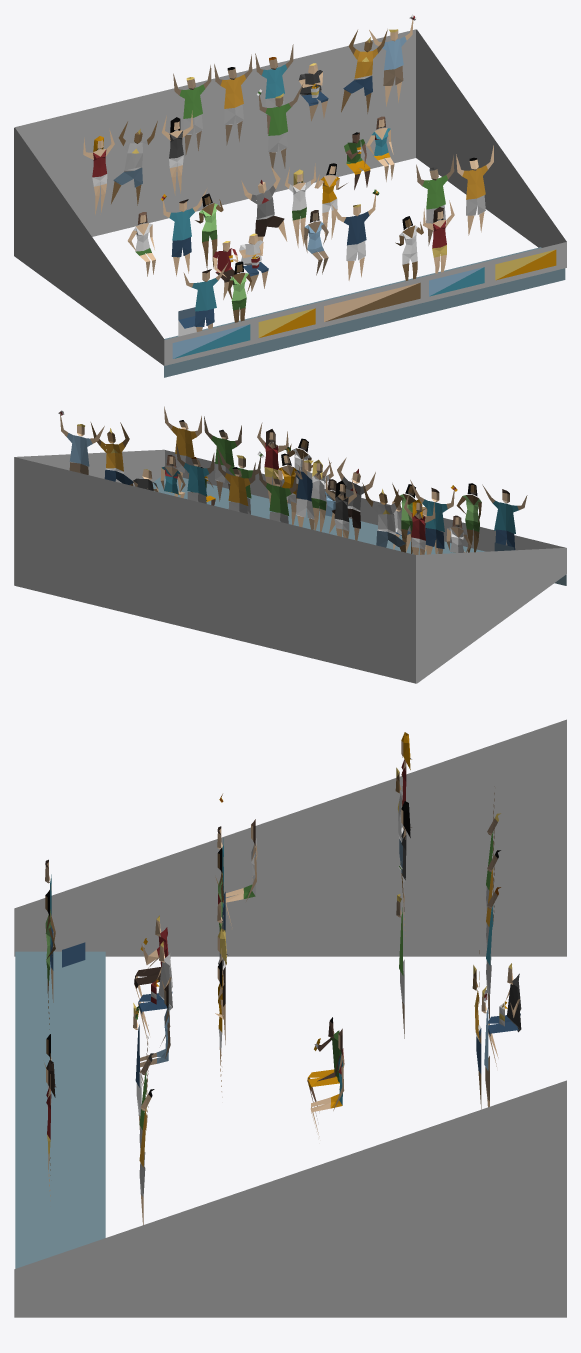
Rendered from publico_lowpoly.dae.
The picture shows the model from 3 angles, top to bottom: view 1: azimuth 30°, elevation 25°; view 2: azimuth 150°, elevation 25°; view 3: azimuth 270°, elevation 25°; orthographic projection. The views are drawn at different scales.
Parts seen in each view (by area): view 1: Plane_002, Plane_003, hombre_015, hombre_011, hombre_009, hombre_010, hombre_008, hombre_004, hombre_1, hombre_006, hombre_013, hombre_003 (+19 smaller); view 2: Plane_002, Plane_003, hombre_1, hombre_004, Plane, hombre_009, hombre_006, hombre_003, mujer_000, hombre_015, hombre_014, hombre_008 (+13 smaller); view 3: Plane_002, Plane_003, hombre_007, hombre_2, hombre_005, hombre_000.
Part boxes in pixels (box(x1,y1,x2,y2)): Plane_002: box(14, 29, 566, 365); Plane_003: box(164, 247, 565, 377); hombre_015: box(456, 145, 493, 235); hombre_011: box(214, 54, 252, 145); hombre_009: box(341, 29, 387, 113); hombre_010: box(257, 83, 303, 168); hombre_008: box(331, 189, 379, 280); hombre_004: box(111, 121, 157, 205); hombre_1: box(161, 188, 207, 276); hombre_006: box(369, 14, 416, 106); hombre_013: box(173, 65, 211, 155); hombre_003: box(241, 166, 287, 252); Plane_002: box(14, 449, 566, 683); Plane_003: box(152, 474, 566, 585); hombre_1: box(410, 480, 457, 554); hombre_004: box(362, 483, 405, 552); Plane: box(482, 484, 527, 550); hombre_009: box(90, 422, 133, 485); hombre_006: box(58, 410, 104, 474); hombre_003: box(329, 457, 375, 540); mujer_000: box(302, 453, 333, 531); hombre_015: box(164, 406, 201, 491); hombre_014: box(204, 416, 241, 501); hombre_008: box(285, 447, 331, 529); Plane_002: box(14, 719, 566, 1317); Plane_003: box(15, 951, 105, 1268); hombre_007: box(488, 963, 521, 1066); hombre_2: box(138, 941, 172, 1044); hombre_005: box(307, 1017, 341, 1116); hombre_000: box(134, 915, 168, 1002).
Size of what is drawn, in the model's own units: 18.9 by 12.22 by 8.02.
